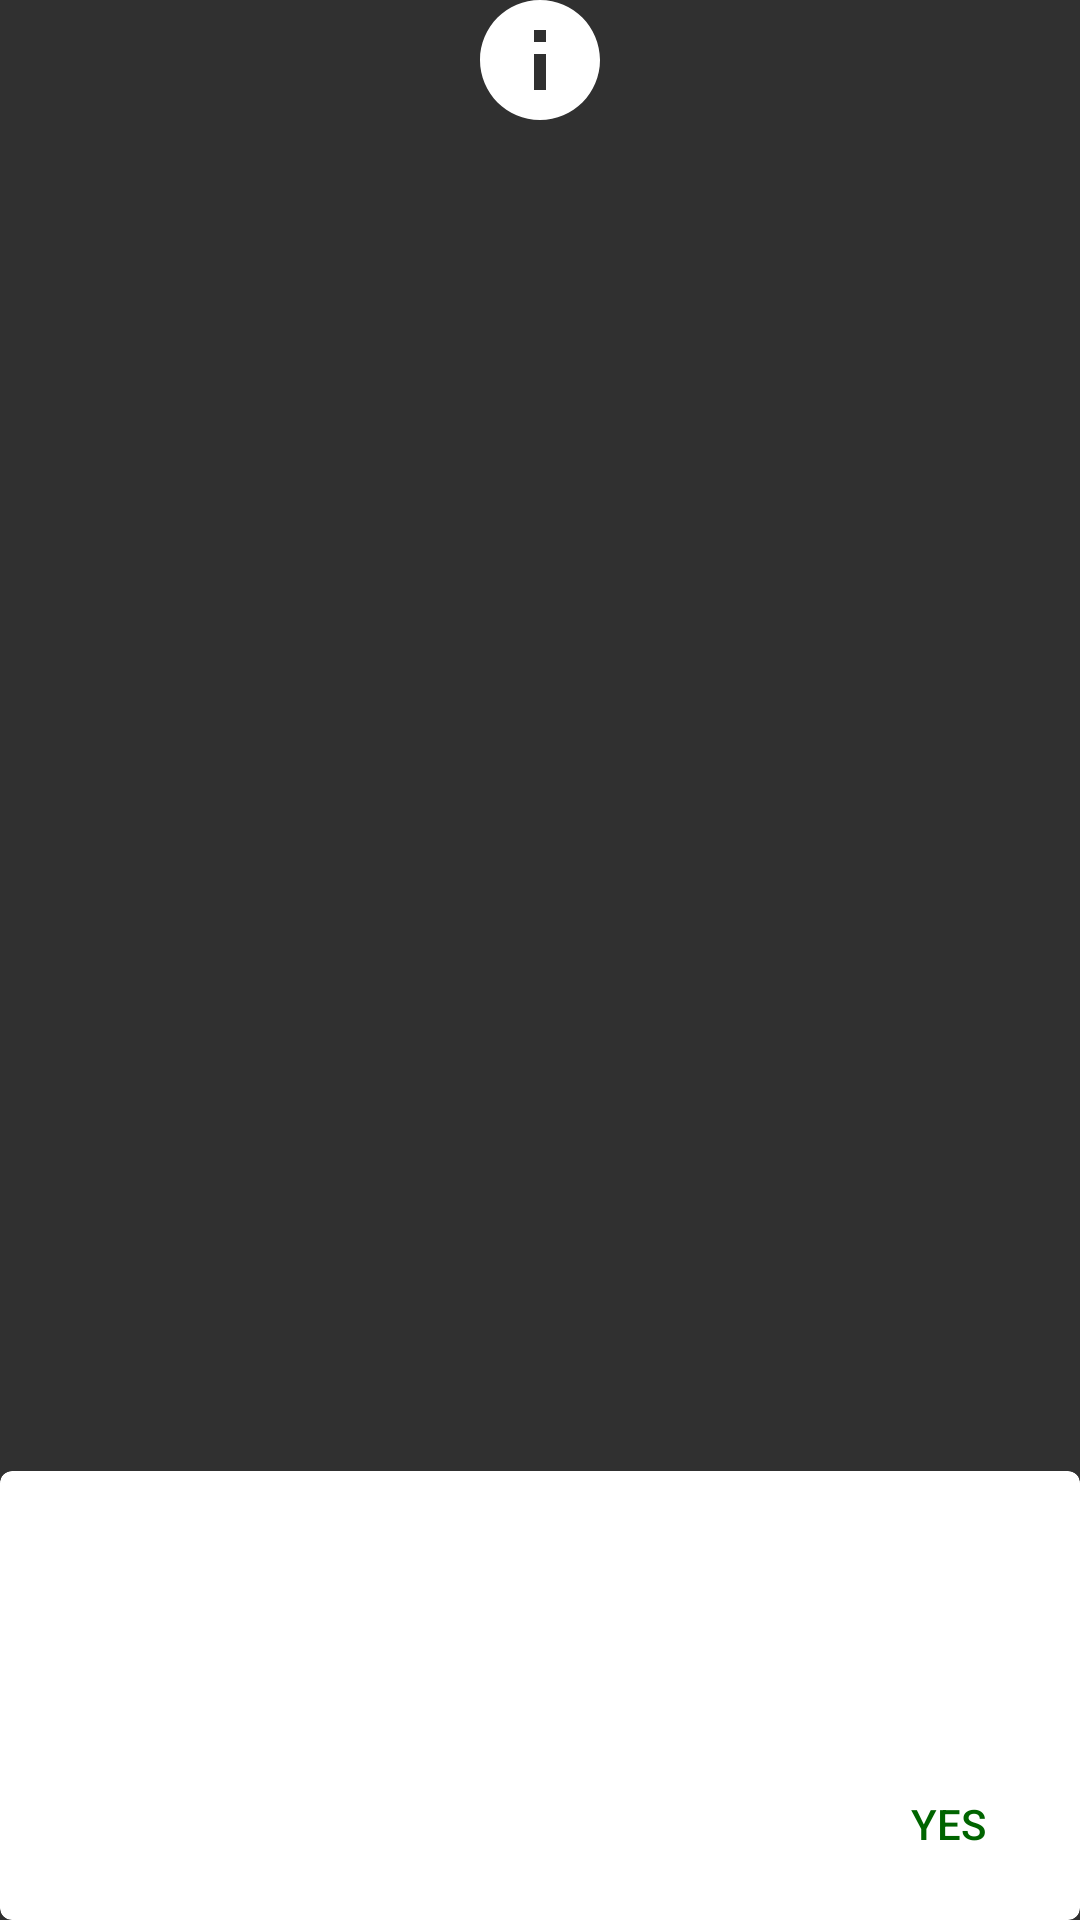

Where to tap for icons on this 1080px×1920px app screen, as point (x, y):
info: point (540, 60)
